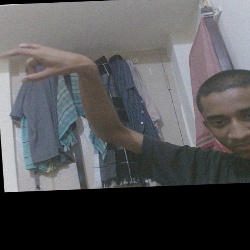hand: (3, 39, 100, 90)
